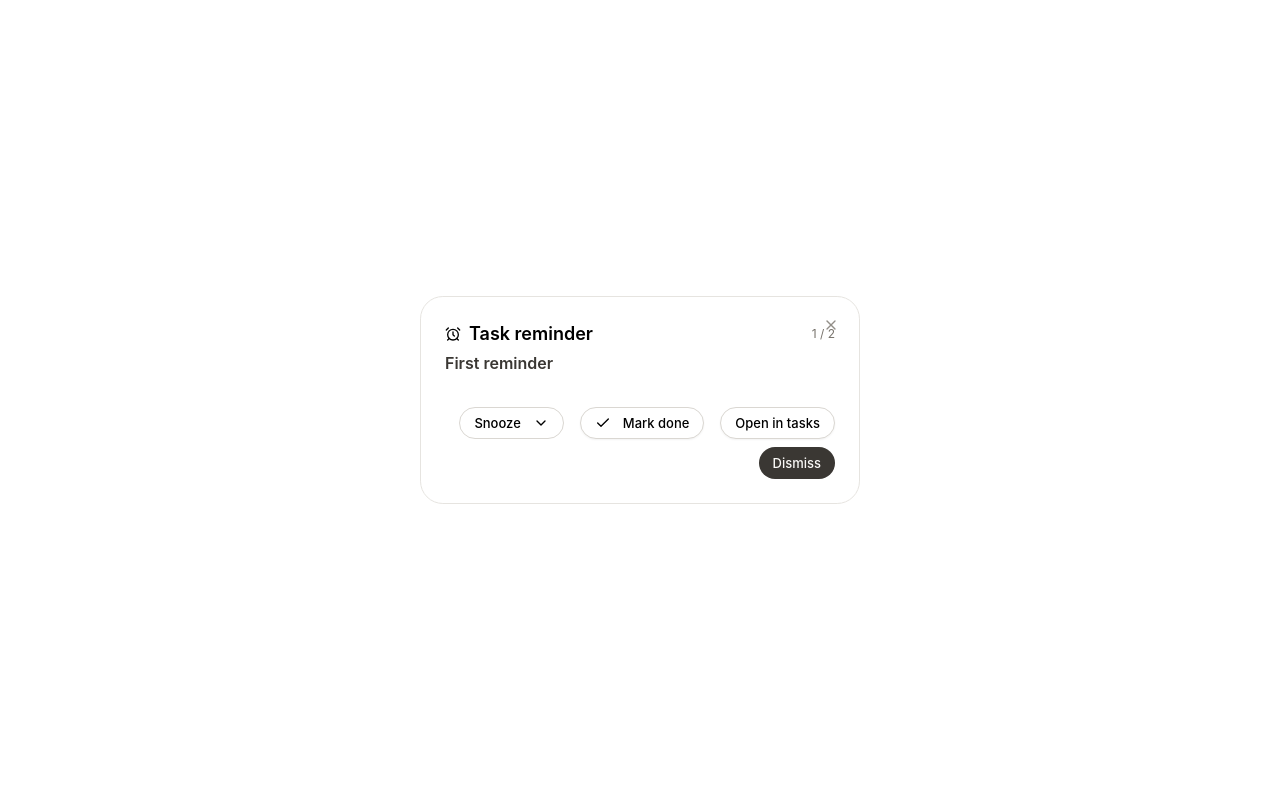
it: TaskReminderModal › advances to the next queued reminder after dismissing the first
Check: the text "First reminder" is shown, box [445,353,553,373]
Click the button "Dismiss": x=797, y=463 [758,447,835,479]
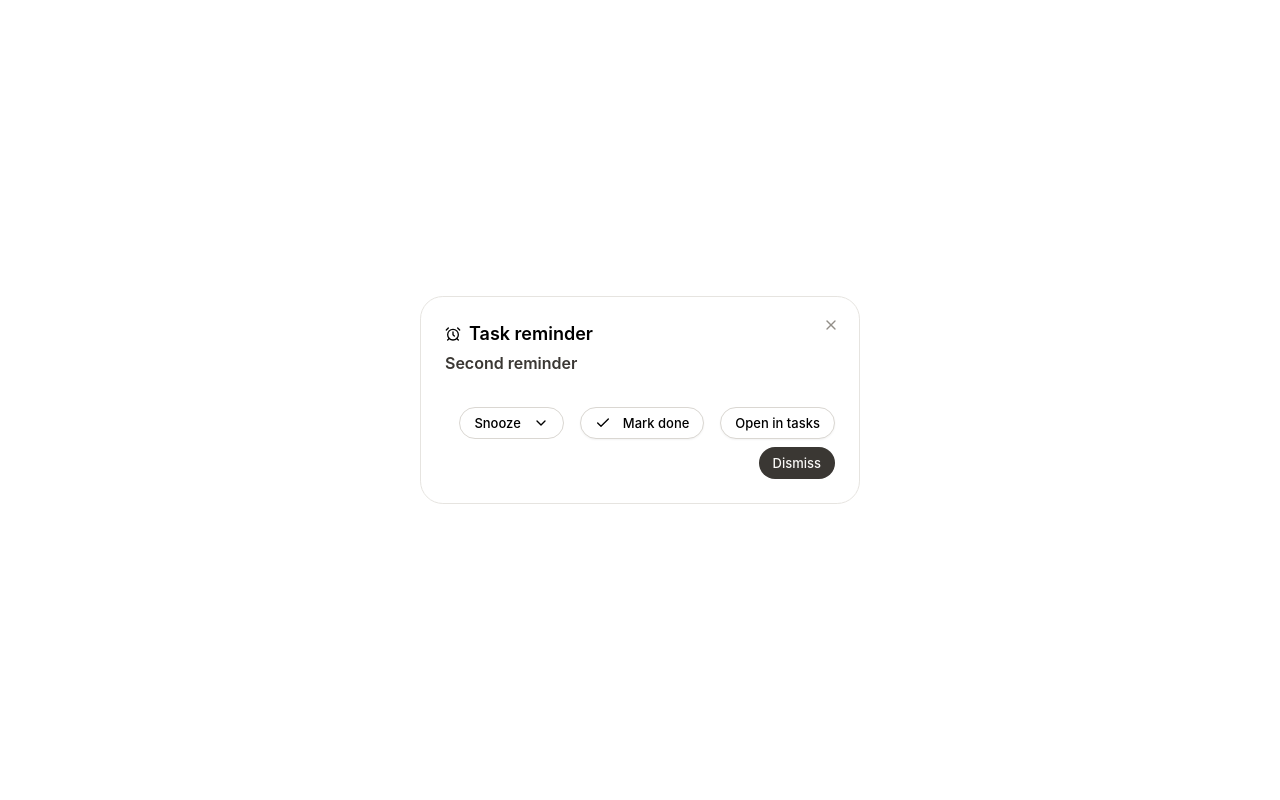
Check: the text "Second reminder" is shown, box [445,353,577,373]
